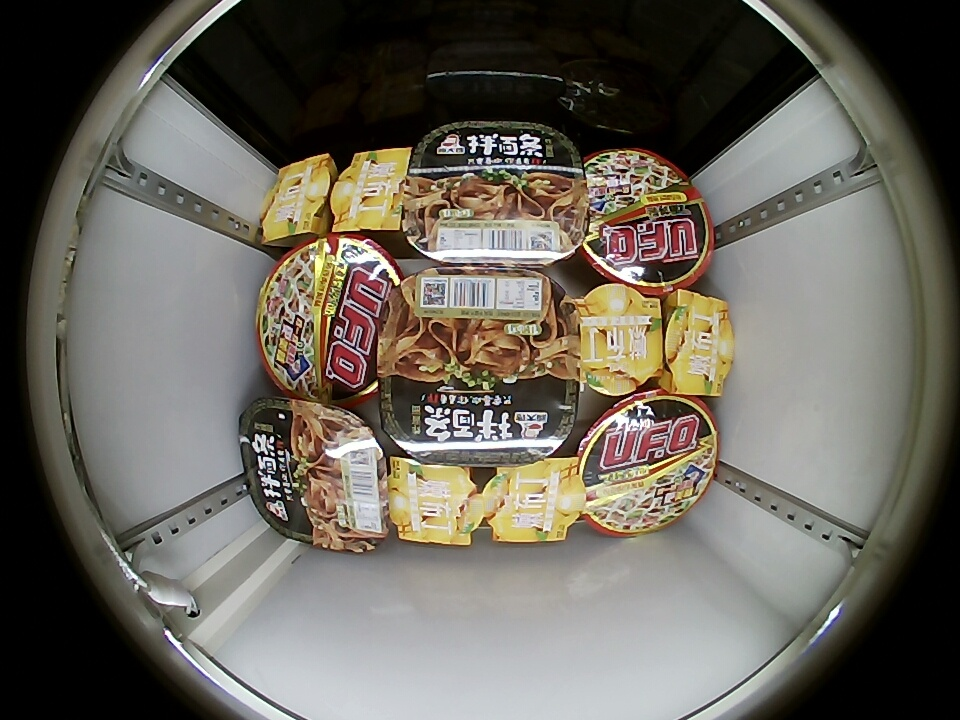buding: (575, 284, 662, 396), (482, 456, 584, 543), (387, 459, 483, 546), (663, 290, 735, 396), (330, 147, 412, 234), (259, 154, 334, 242)
gudasao: (378, 267, 579, 466), (401, 120, 585, 268), (240, 399, 390, 552)
ufo2: (256, 234, 404, 403), (577, 391, 719, 537), (579, 148, 714, 296)
